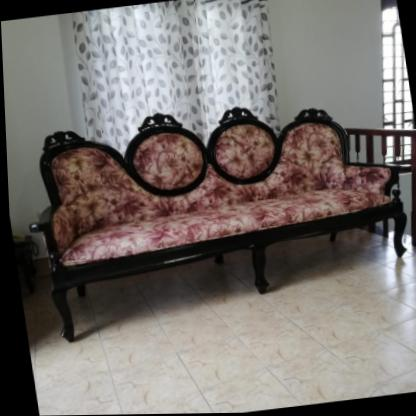Ceramic floor: (30, 280, 416, 416)
Sofa: (11, 90, 416, 344)
